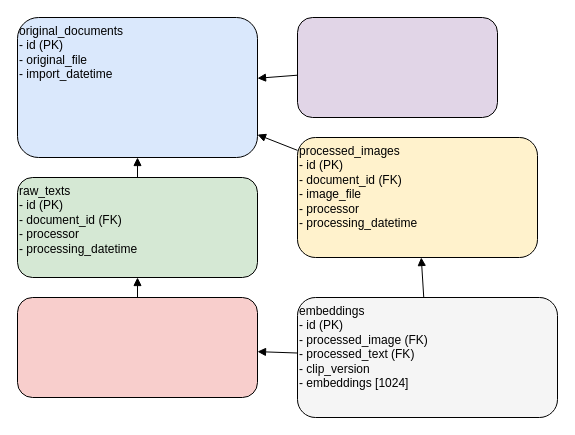
Image size: 575x435. Some labels were removed from this diagram. The centre of each missing label's shape, as x and y in pixels:
labels - id (PK) - document_id (FK) - source - label: pixel 397 67
processed_texts - id (PK) - raw_text (FK) - processor - processing_datetime: pixel 137 347
